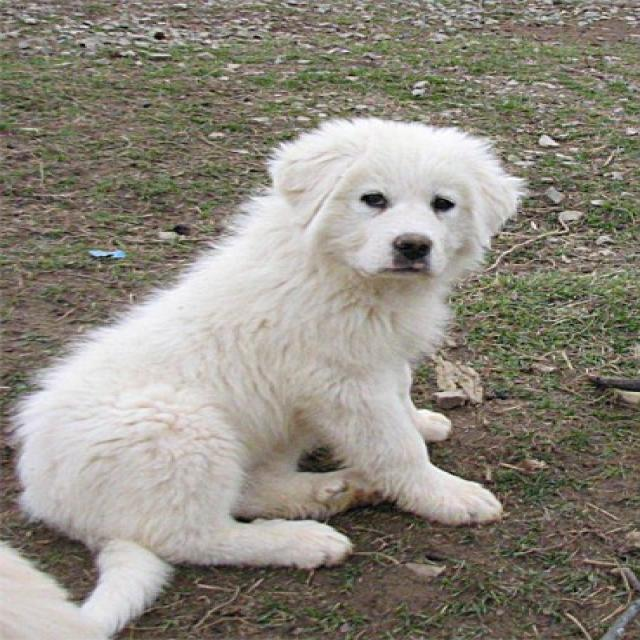dog-great_pyrenees: (2, 111, 541, 637)
